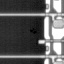dust: (30, 27, 37, 34)
